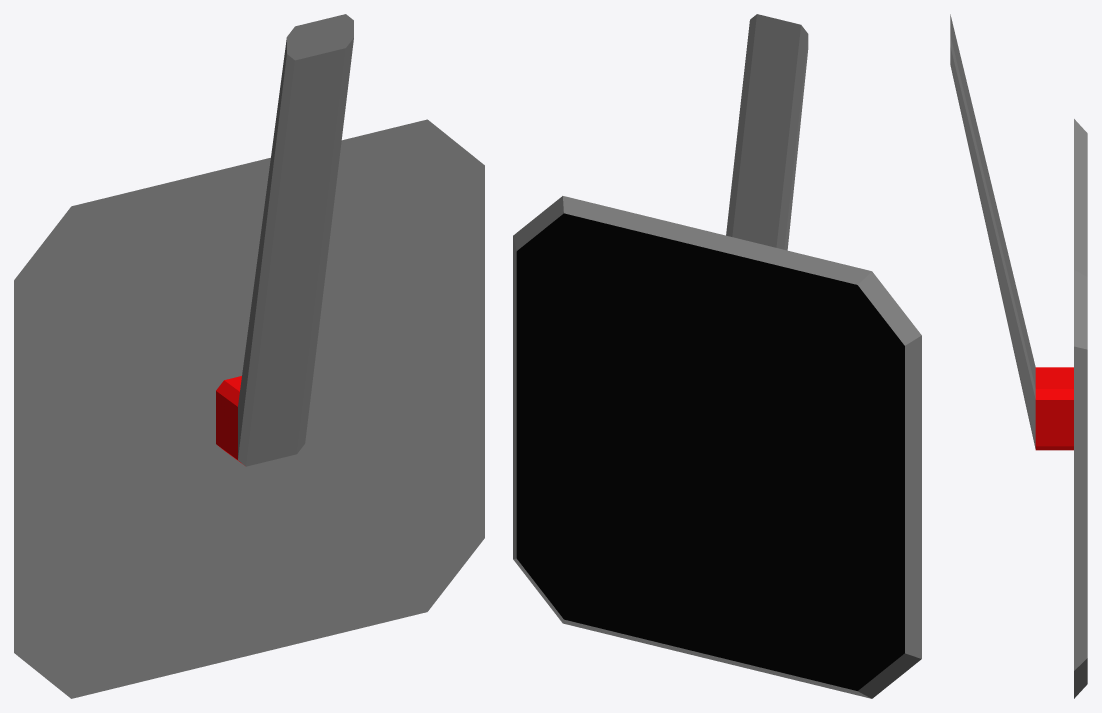
File: Screen.fbx
The picture shows the model from 3 angles, left to right: view 1: azimuth 30°, elevation 25°; view 2: azimuth 150°, elevation 25°; view 3: azimuth 270°, elevation 25°; orthographic projection. The views are drawn at different scales.
Parts seen in each view (by area): view 1: Screen; view 2: Screen; view 3: Screen.
Part boxes in pixels (bbox=[...]): Screen: bbox=[14, 14, 484, 698]; Screen: bbox=[513, 14, 921, 698]; Screen: bbox=[950, 14, 1087, 698].
Size of the model in its own units: 2.09 by 2.92 by 0.6053.
